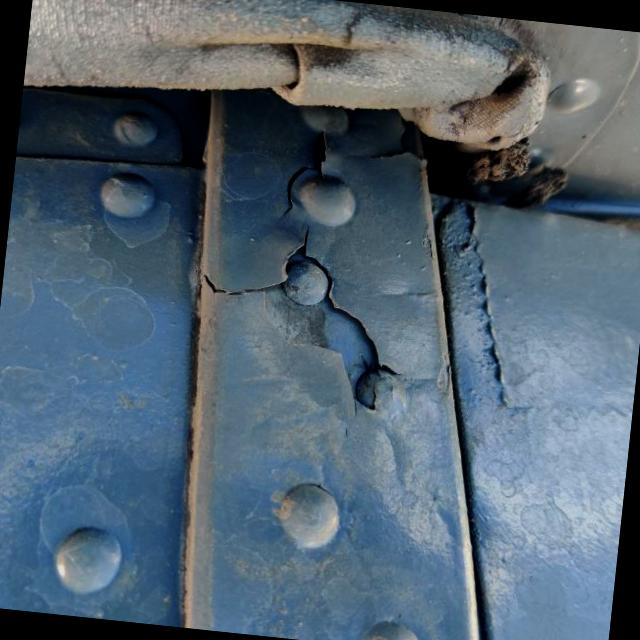crack: (174, 103, 433, 430), (340, 96, 444, 188)
